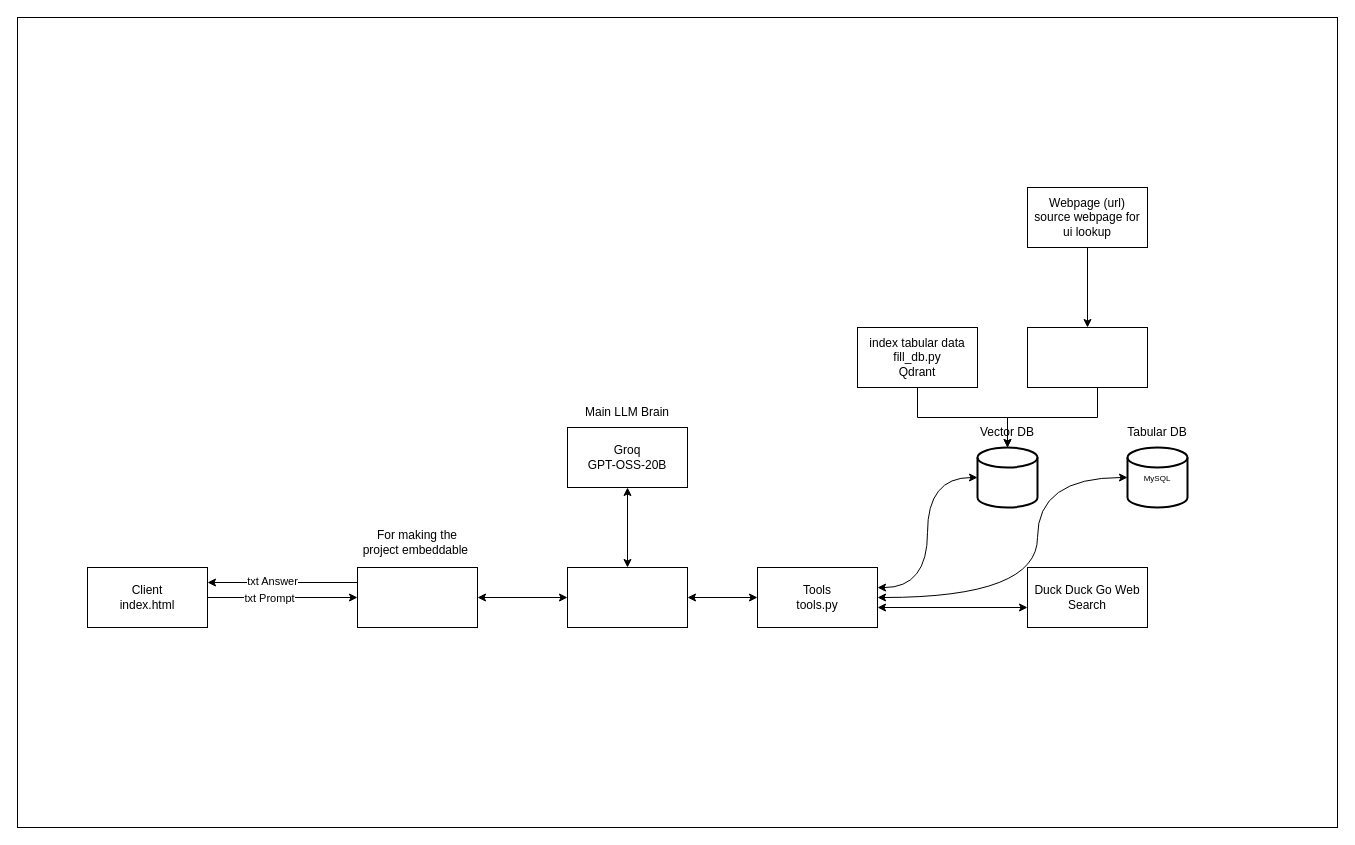
Some shapes in this 1355 by 845 pixel diagram are drawn without their labels. The shapes that lost their labels are listed below. From the top down, each one's centre as x and y in pixels, then its label:
point (1087, 357): index ui data FlattenNindex.py
point (1007, 477): ChromaDB/ Qdrant
point (417, 597): Backend backend.php
point (627, 597): Agent Backend agent.py
